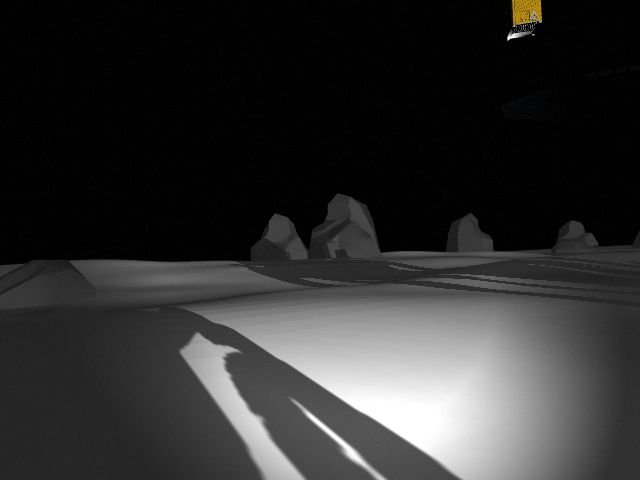cubesat: (503, 1, 549, 44)
